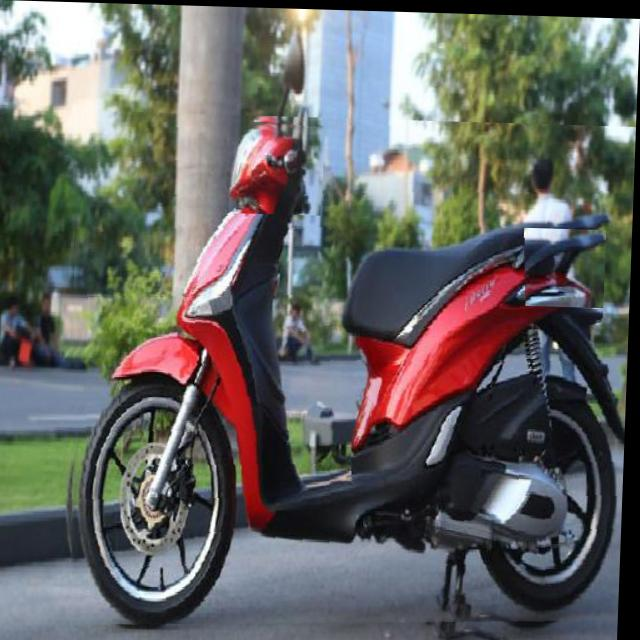All: (61, 110, 637, 637)
Head: (226, 117, 326, 214)
Tail: (523, 224, 608, 305)
